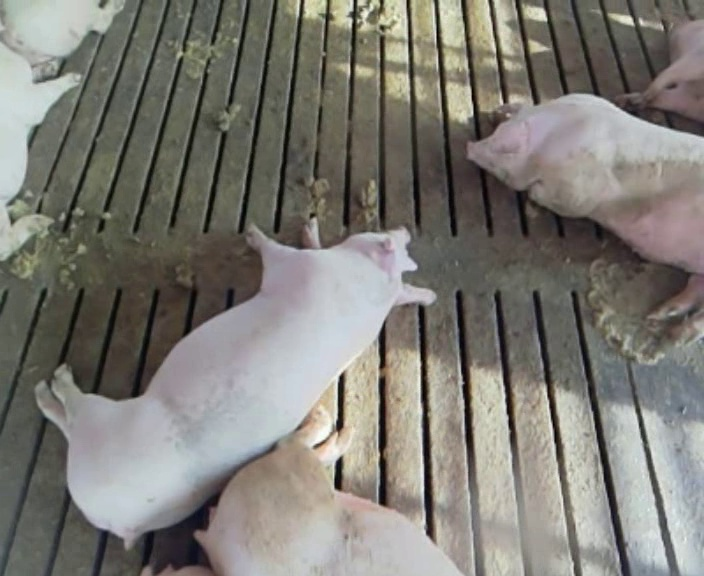pig: (35, 217, 434, 546), (468, 94, 703, 341), (195, 405, 460, 574), (616, 20, 703, 123), (0, 1, 123, 63)
